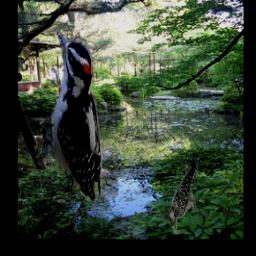Woodpecker: (39, 28, 102, 201), (169, 156, 199, 235)
